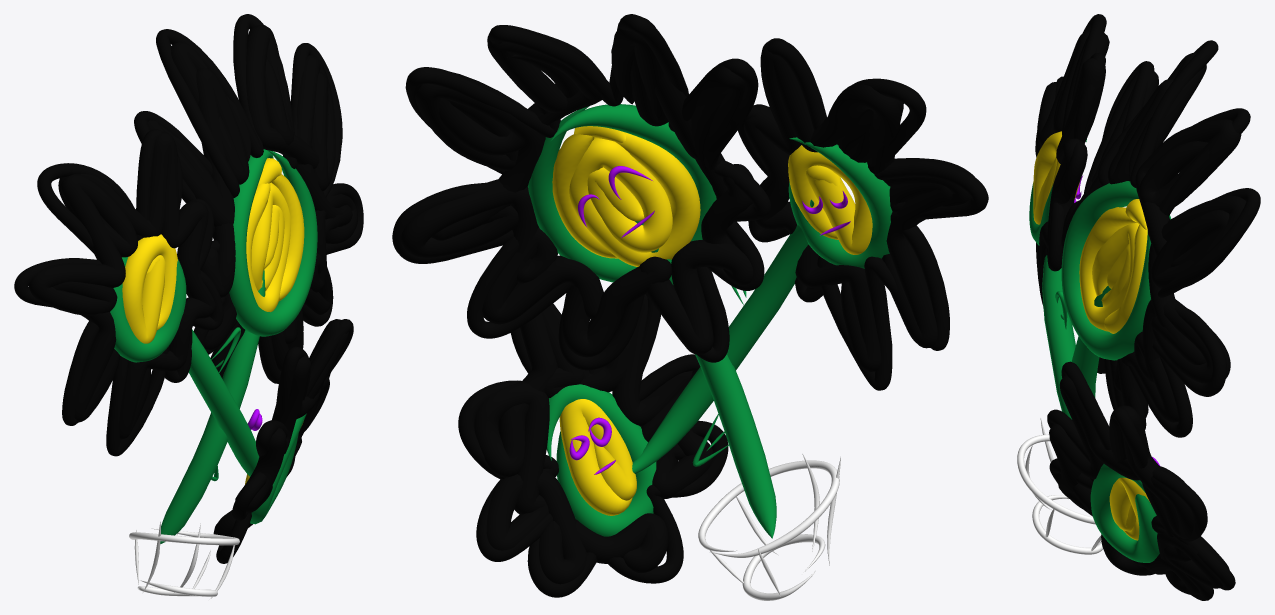
Rendered from florebus.glb.
The picture shows the model from 3 angles, left to right: view 1: azimuth 30°, elevation 25°; view 2: azimuth 150°, elevation 25°; view 3: azimuth 270°, elevation 25°; orthographic projection. The views are drawn at different scales.
Visible parts, largest first — view 1: florebus; view 2: florebus; view 3: florebus.
Part boxes in pixels (x1=…): florebus: x1=14, y1=14, x2=363, y2=600; florebus: x1=392, y1=14, x2=988, y2=600; florebus: x1=1017, y1=14, x2=1260, y2=600.
Size of the model in its own units: 0.9253 by 1.08 by 0.4492.
1 material, 1 textured.
